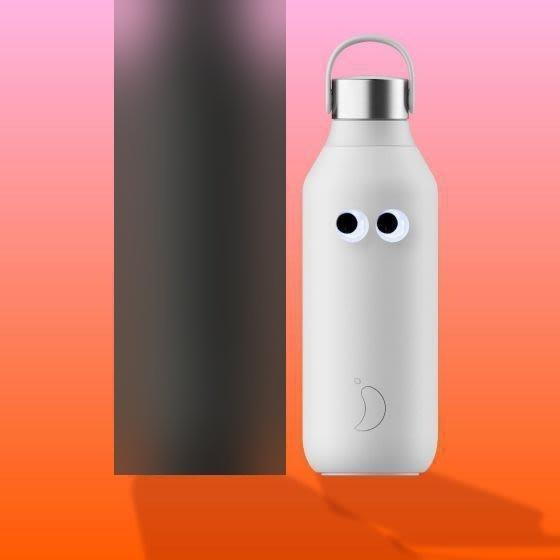gym bottle: (298, 32, 443, 478)
